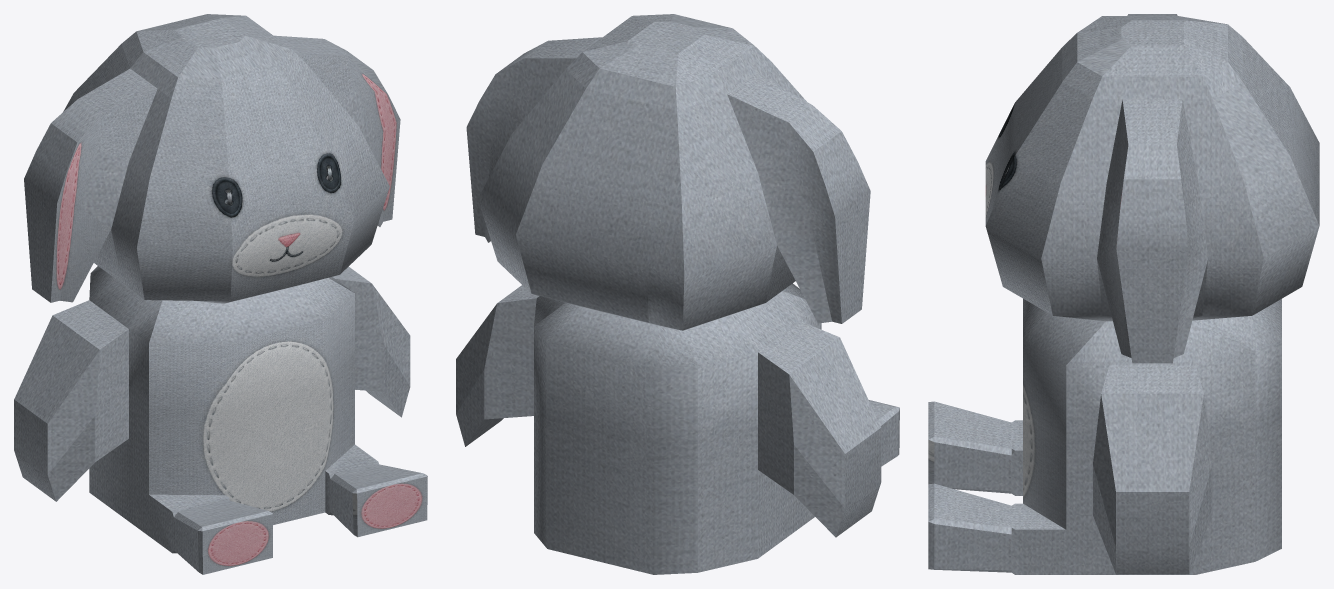
The model's file is conejo.fbx.
3 renders of one model, left to right at view 1: azimuth 30°, elevation 25°; view 2: azimuth 150°, elevation 25°; view 3: azimuth 270°, elevation 25°, orthographic. The views are drawn at different scales.
Parts seen in each view (by area): view 1: ConejoPeluche; view 2: ConejoPeluche; view 3: ConejoPeluche.
Part boxes in pixels (x1,y1,x2,y2): ConejoPeluche: [14, 14, 427, 574]; ConejoPeluche: [456, 14, 899, 574]; ConejoPeluche: [928, 14, 1319, 574].
Bounding box in the file's own units: 0.1759 × 0.2075 × 0.1509.
